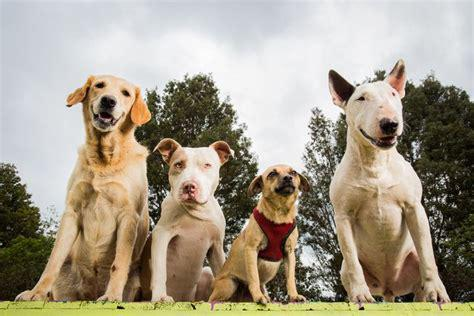dog: (15, 75, 150, 301), (328, 59, 448, 302), (209, 164, 310, 301), (150, 139, 230, 302)
